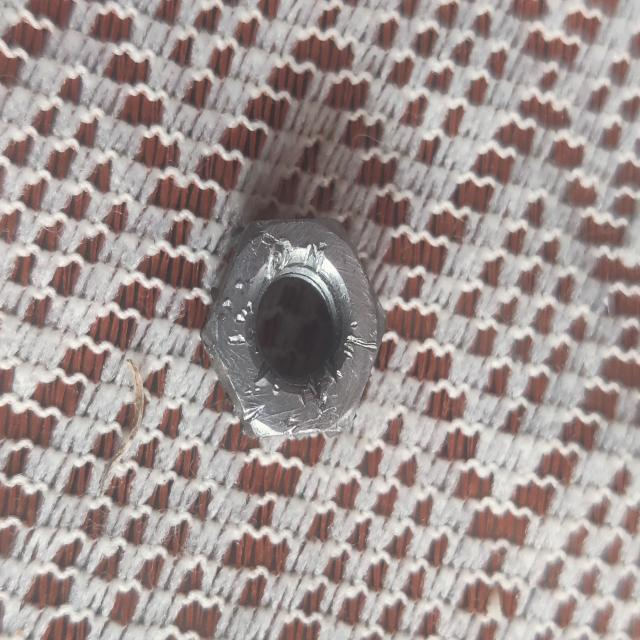infected nut: (202, 220, 385, 437)
